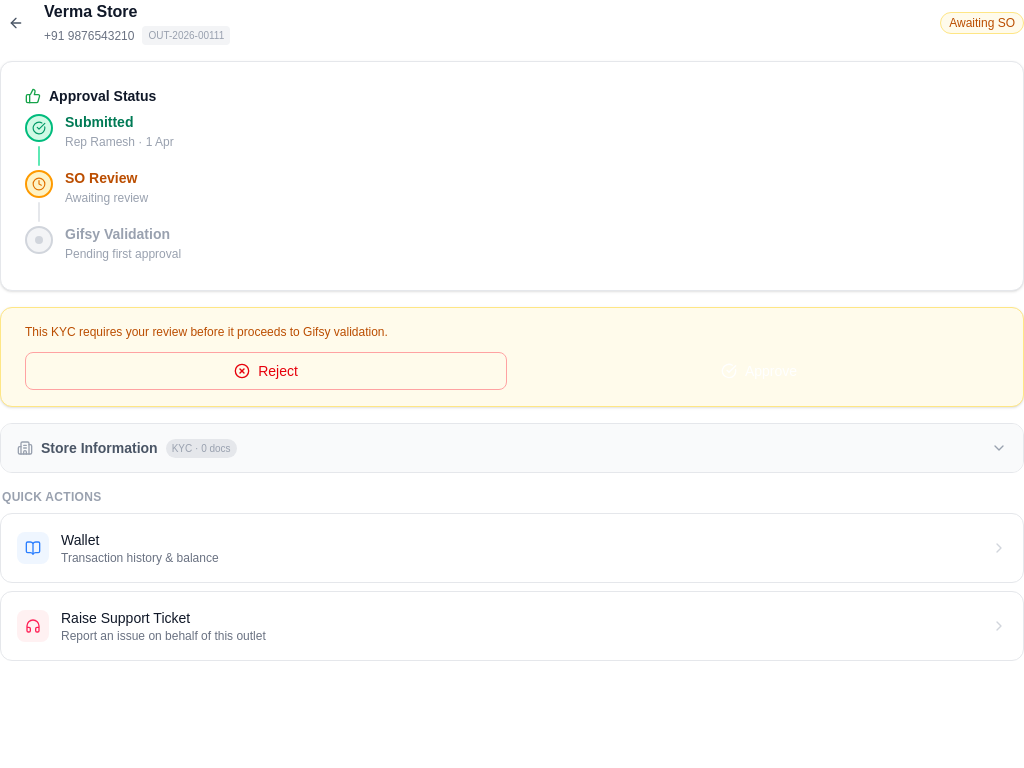
Test case: SKDP — Sales KYC detail documents + photos › SKDP5: honest empty states when nothing was uploaded
The width and height of the screenshot is (1024, 768).
Check: the heading "Verma Store" is shown, box [44, 3, 137, 20]
Click the text "Store Information": [99, 448] box [41, 438, 158, 458]
(page scrolled)
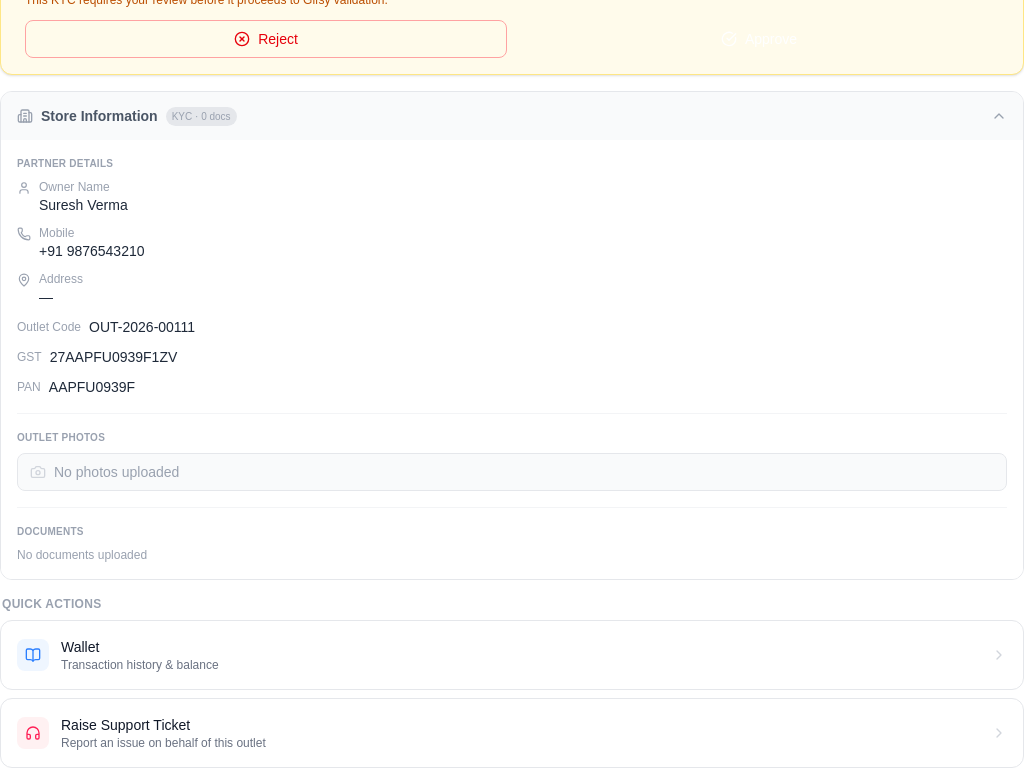
Check: the text "No documents uploaded" is shown, box [17, 548, 147, 562]
Check: the text "No photos uploaded" is shown, box [17, 453, 1007, 491]
